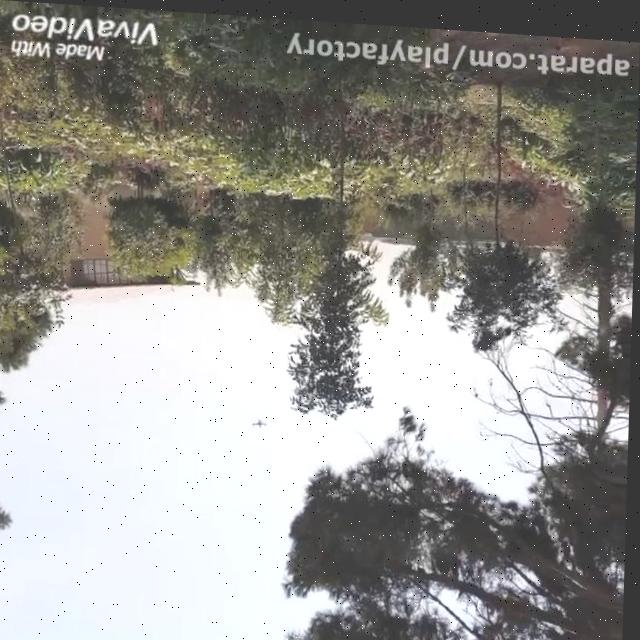drone: (253, 413, 272, 430)
